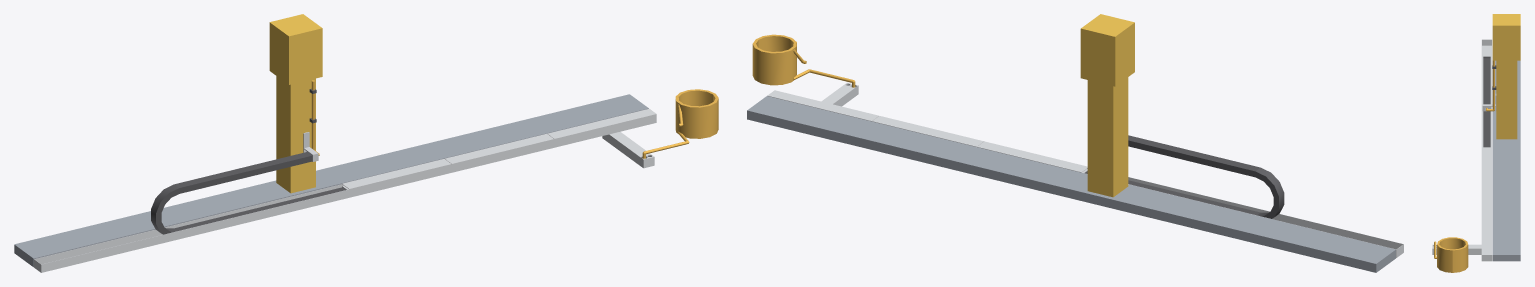
Rendered from modul_R.glb.
3 views of the same model, side by side, from view 1: azimuth 30°, elevation 25°; view 2: azimuth 150°, elevation 25°; view 3: azimuth 270°, elevation 25° (orthographic). The views are drawn at different scales.
Visible parts, largest first — view 1: ROBOT_RAY, ROBOT_ZINCIR_OLUGU__paslanmaz, ROBOT_1, ROBOT_1_KOL, ROBOT_ENERJI_ZINCIRI__zincir, ROBOT_KABLOSU__kablo, ZEMIN_KANALI__paslanmaz; view 2: ROBOT_RAY, ROBOT_1, ROBOT_ZINCIR_OLUGU__paslanmaz, ROBOT_1_KOL, ROBOT_ENERJI_ZINCIRI__zincir, ROBOT_KABLOSU__kablo, ZEMIN_KANALI__paslanmaz; view 3: ROBOT_RAY, ROBOT_ZINCIR_OLUGU__paslanmaz, ROBOT_1, ROBOT_1_KOL, ROBOT_KABLOSU__kablo, ROBOT_ENERJI_ZINCIRI__zincir, ZEMIN_KANALI__paslanmaz, ROBOT_ENERJI_ZINCIRI__celik.
Part boxes in pixels (x1,y1,x2,y2): ROBOT_RAY: (14, 94, 648, 267); ROBOT_ZINCIR_OLUGU__paslanmaz: (34, 108, 656, 272); ROBOT_1: (276, 76, 315, 193); ROBOT_1_KOL: (269, 14, 322, 84); ROBOT_ENERJI_ZINCIRI__zincir: (151, 152, 345, 234); ROBOT_KABLOSU__kablo: (311, 80, 718, 158); ZEMIN_KANALI__paslanmaz: (602, 131, 654, 168); ROBOT_RAY: (747, 96, 1395, 272); ROBOT_1: (1087, 77, 1128, 197); ROBOT_ZINCIR_OLUGU__paslanmaz: (767, 90, 1403, 257); ROBOT_1_KOL: (1080, 14, 1134, 86); ROBOT_ENERJI_ZINCIRI__zincir: (1085, 135, 1284, 218); ROBOT_KABLOSU__kablo: (752, 34, 855, 87); ZEMIN_KANALI__paslanmaz: (821, 82, 858, 106); ROBOT_RAY: (1492, 60, 1520, 261); ROBOT_ZINCIR_OLUGU__paslanmaz: (1481, 39, 1492, 261); ROBOT_1: (1496, 60, 1517, 139); ROBOT_1_KOL: (1492, 14, 1520, 60); ROBOT_KABLOSU__kablo: (1434, 60, 1494, 272); ROBOT_ENERJI_ZINCIRI__zincir: (1483, 56, 1490, 147); ZEMIN_KANALI__paslanmaz: (1432, 244, 1481, 254); ROBOT_ENERJI_ZINCIRI__celik: (1482, 94, 1496, 111).
Size of the model in its own units: 4.67 by 1.21 by 0.76.
